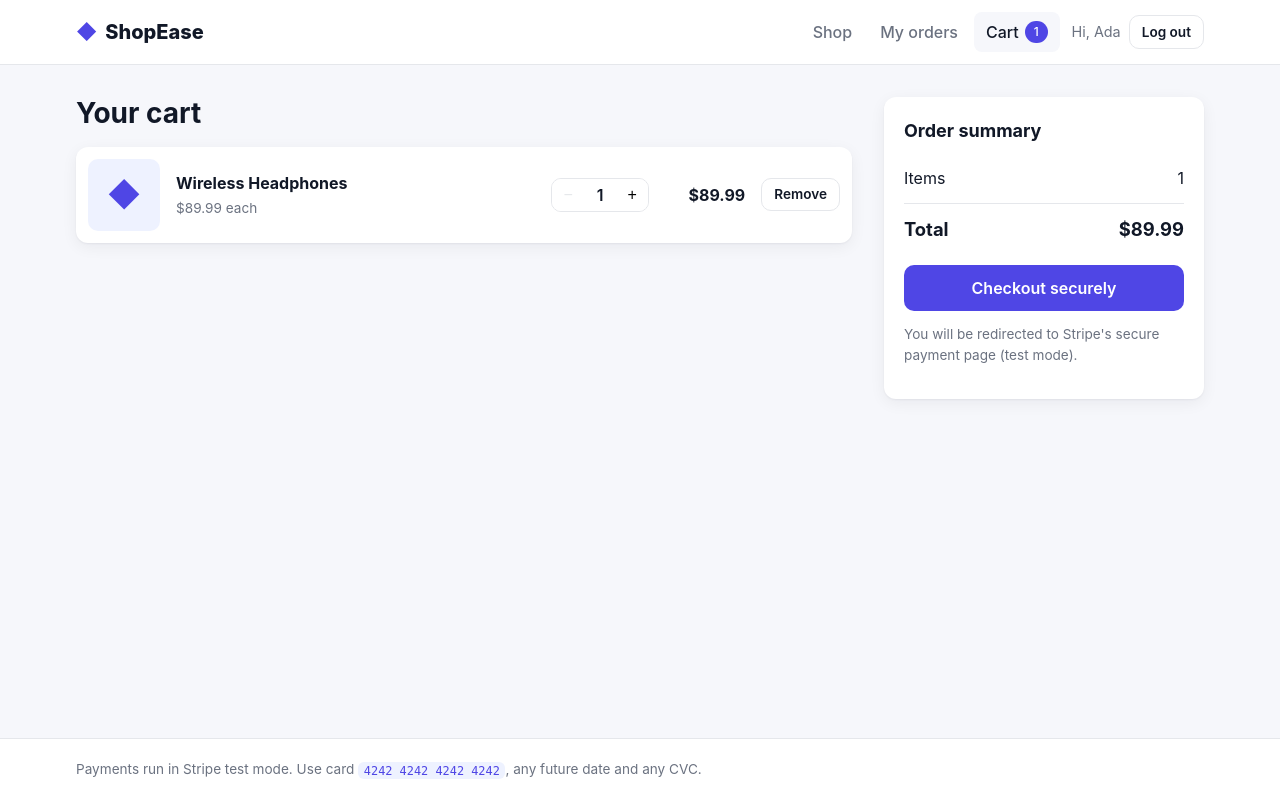
Test: checkout › shows a stock error from the server instead of redirecting
Click the button "Checkout securely" at (1044, 288), box [904,265,1184,311]
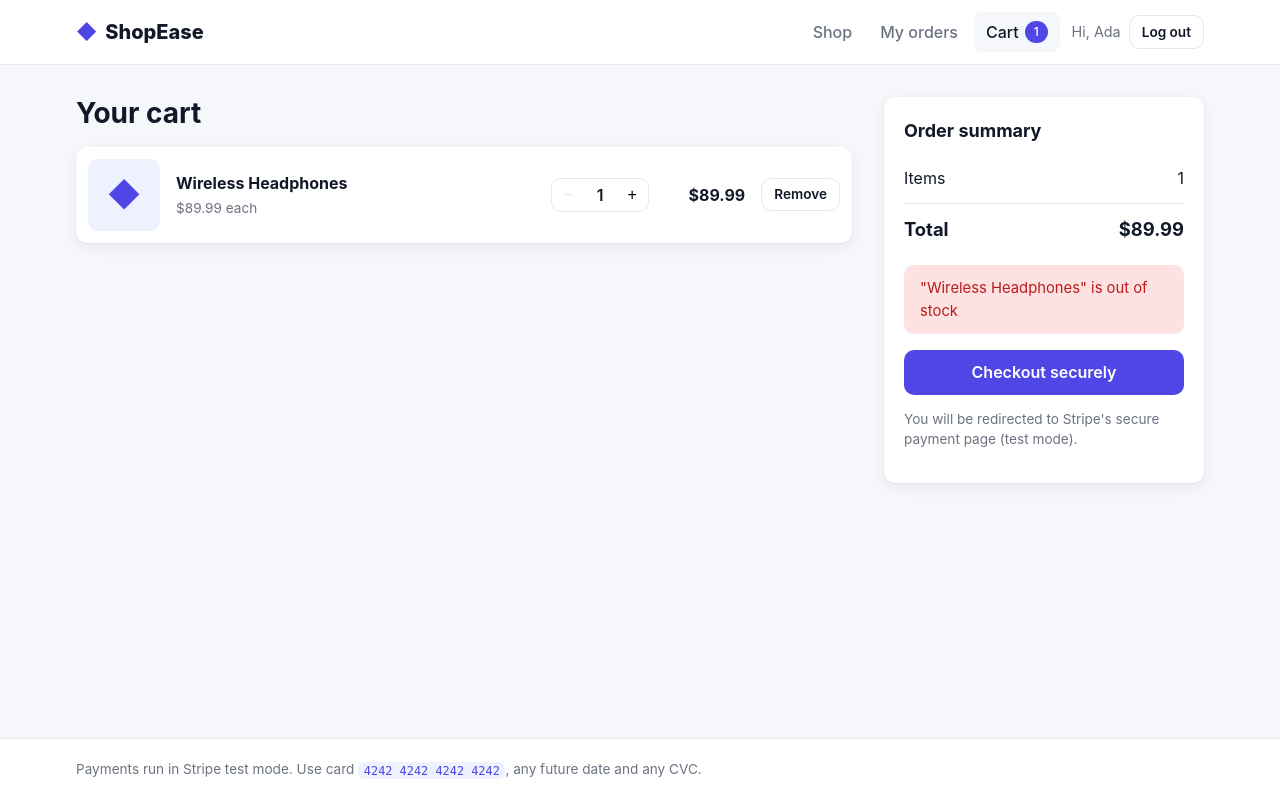
Check: the message shows "is out of stock", box [920,279,1148,320]
